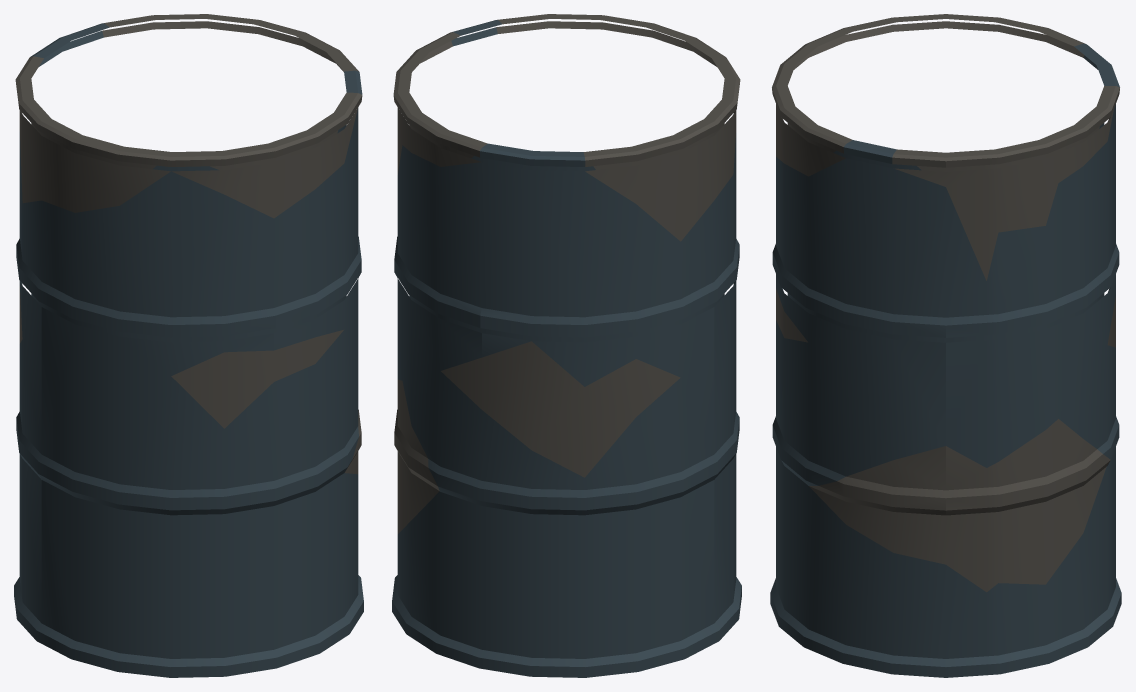
File: prop-oil-drum.glb
3 renders of one model, left to right at view 1: azimuth 30°, elevation 25°; view 2: azimuth 150°, elevation 25°; view 3: azimuth 270°, elevation 25°, orthographic.
Visible parts, largest first — view 1: Barrel; view 2: Barrel; view 3: Barrel.
Boxes of the visible parts, x1,y1,x2,y2 form: Barrel: [14, 14, 363, 677]; Barrel: [392, 14, 741, 677]; Barrel: [770, 14, 1121, 677].
Size of the model in its own units: 0.7041 by 1.14 by 0.7041.
1 material, 1 textured.
